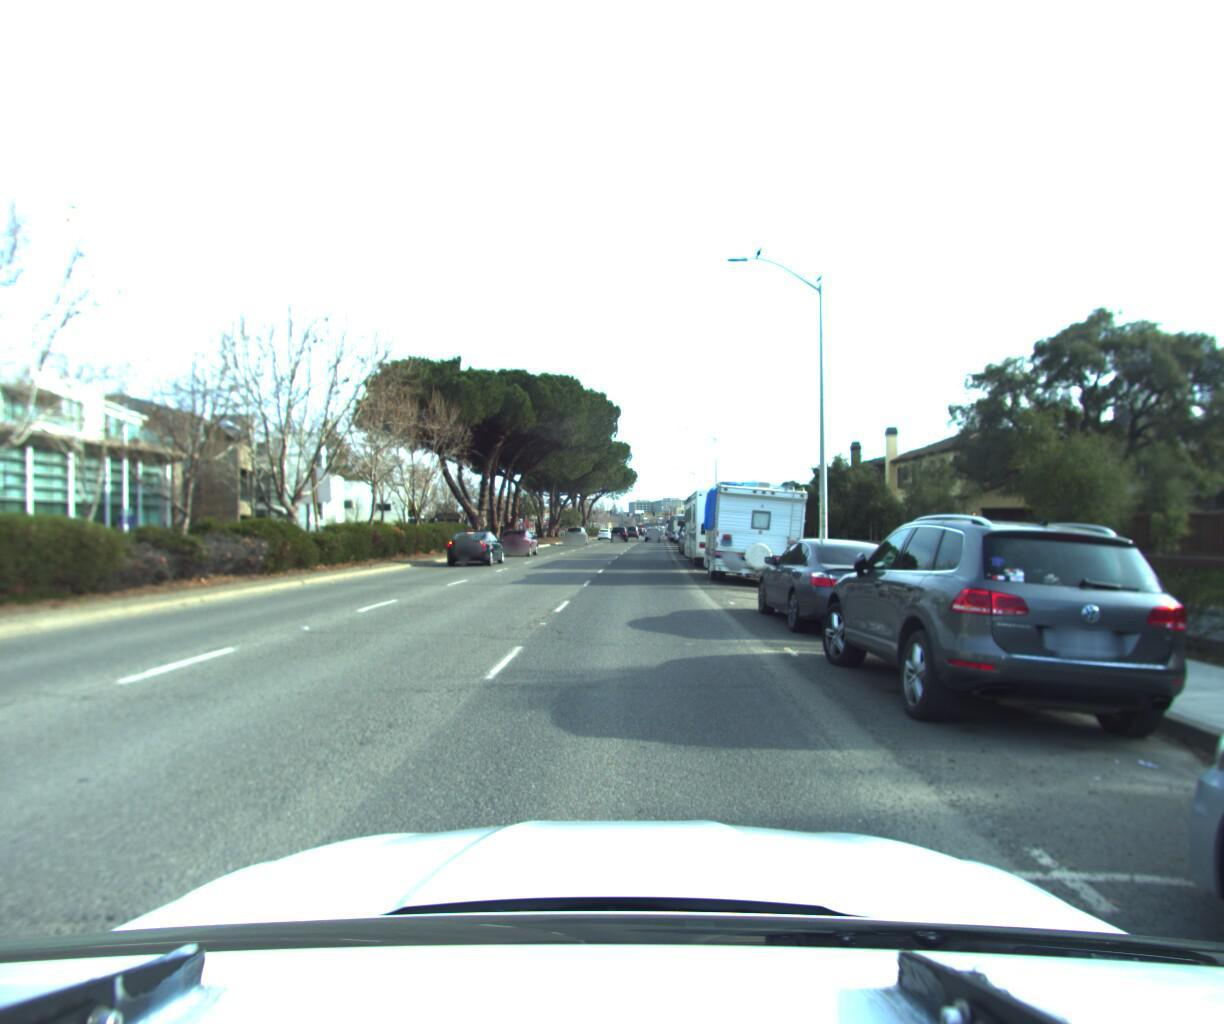car: (814, 505, 1220, 762), (752, 530, 926, 638), (446, 524, 509, 564), (496, 522, 539, 551), (564, 521, 591, 541)
other_vehicle: (698, 470, 823, 584), (680, 462, 791, 571)
